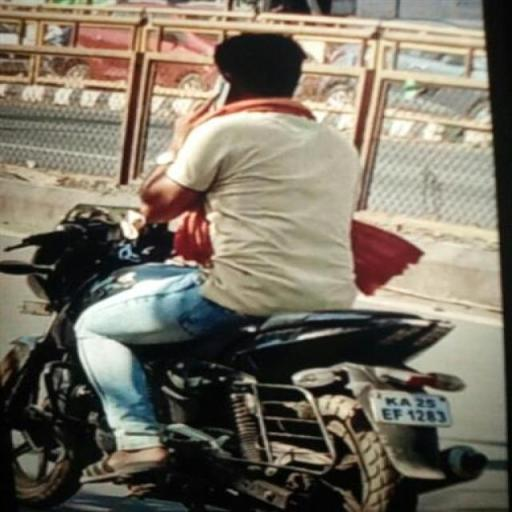using mobile: (196, 72, 239, 118)
